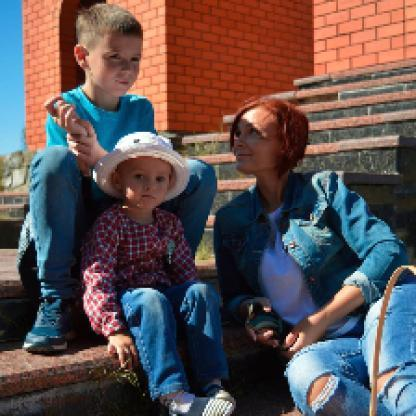child: (79, 133, 241, 416)
